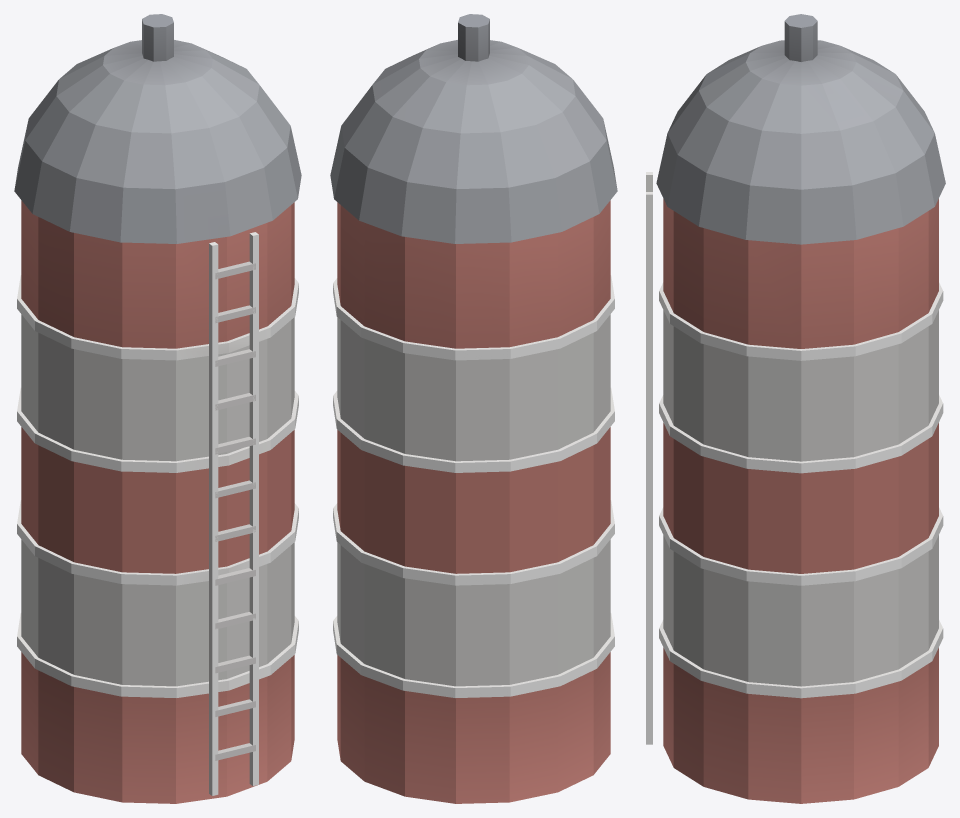
Rendered from VSilo.fbx.
3 views of the same model, side by side, from view 1: azimuth 30°, elevation 25°; view 2: azimuth 150°, elevation 25°; view 3: azimuth 270°, elevation 25° (orthographic).
Visible parts, largest first — view 1: VSilo; view 2: VSilo; view 3: VSilo.
Boxes of the visible parts, bbox=[...] form: VSilo: bbox=[14, 14, 301, 803]; VSilo: bbox=[330, 14, 617, 803]; VSilo: bbox=[646, 14, 945, 803].
Bounding box in the file's own units: 2.1 × 5.8 × 2.17.
